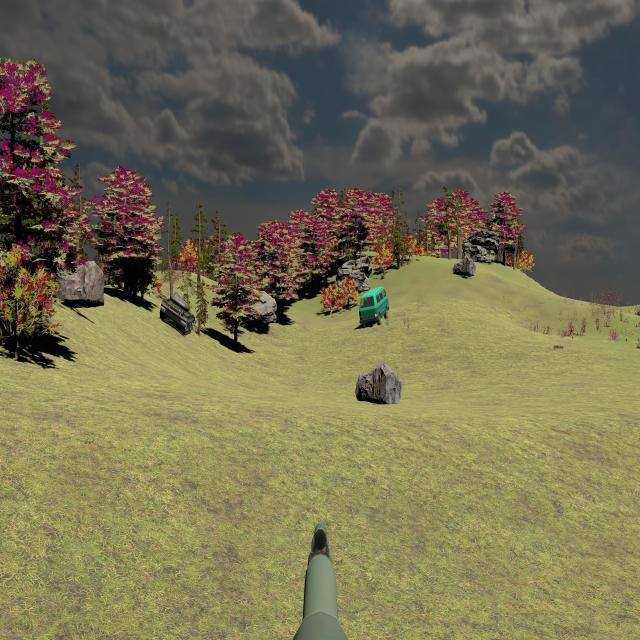Tank: (160, 290, 195, 335)
car: (359, 286, 389, 327)
